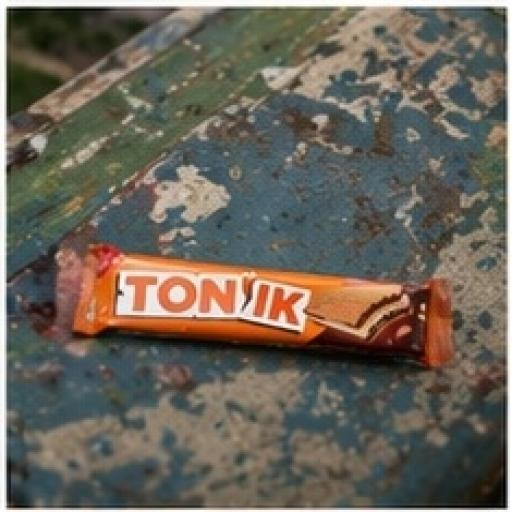tonik: (42, 163, 463, 436)
